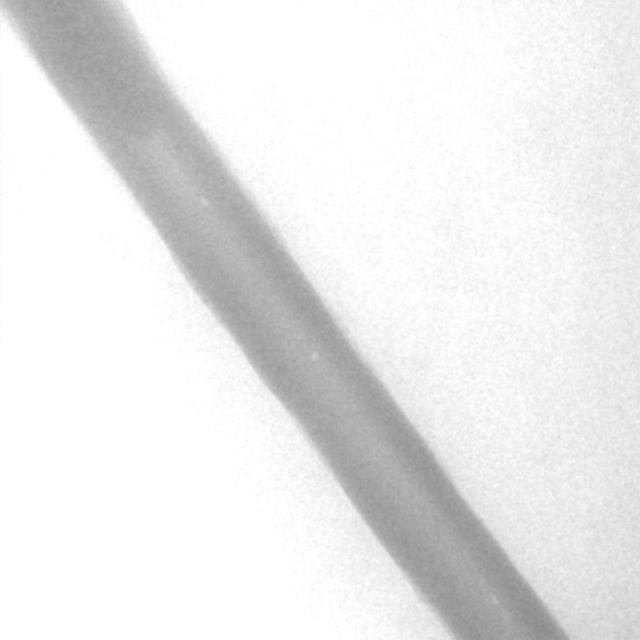air hole: (197, 193, 212, 209), (308, 349, 321, 365), (489, 592, 500, 608)
